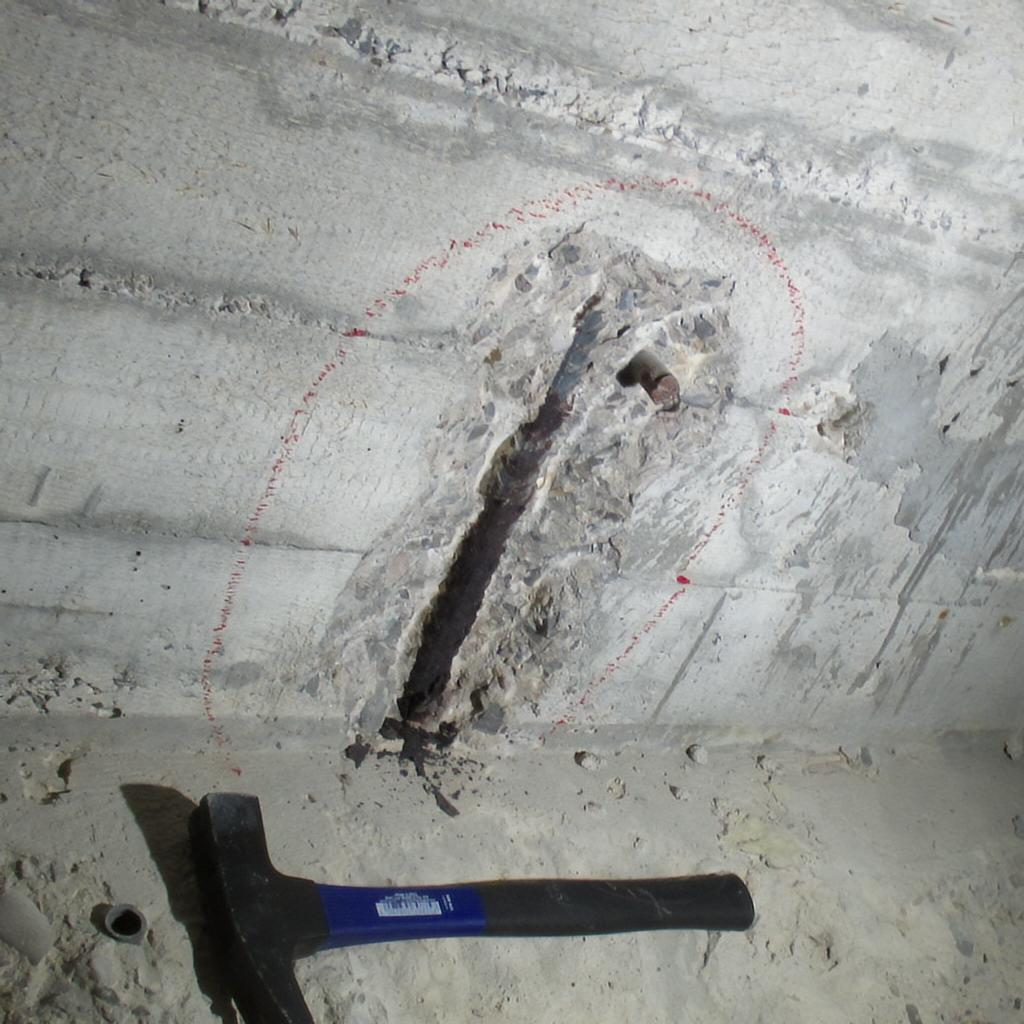exposed_rebar: (398, 294, 604, 725), (616, 350, 680, 410)
spalling: (322, 226, 752, 756)
